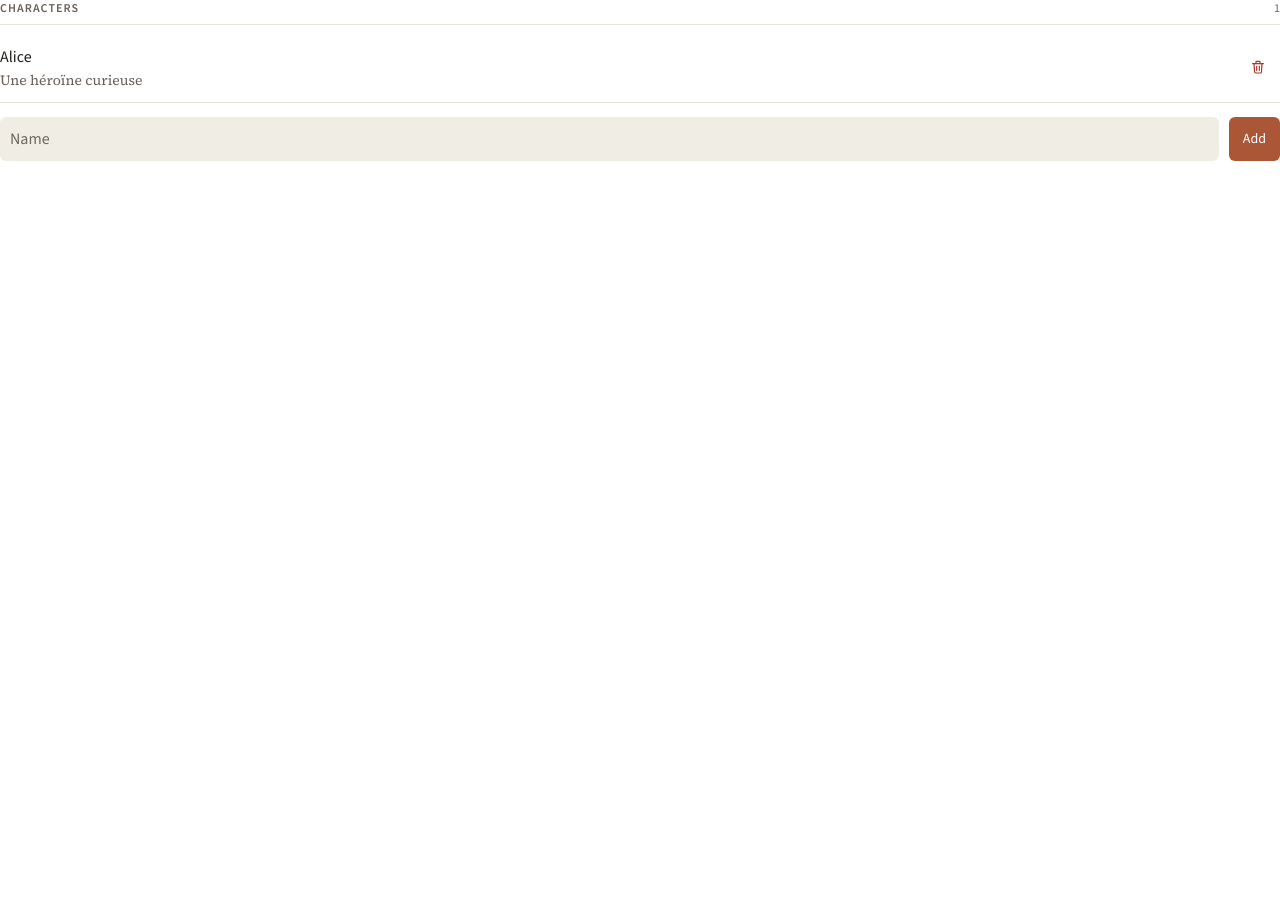
CharactersPanel › does not delete the character when the confirmation dialog is cancelled
Expected: the text "Alice" is shown, top-left (0, 46), bottom-right (32, 67)
Click the button with test id "character-delete-button" at (1258, 67), box top-left (1236, 45), bottom-right (1279, 89)
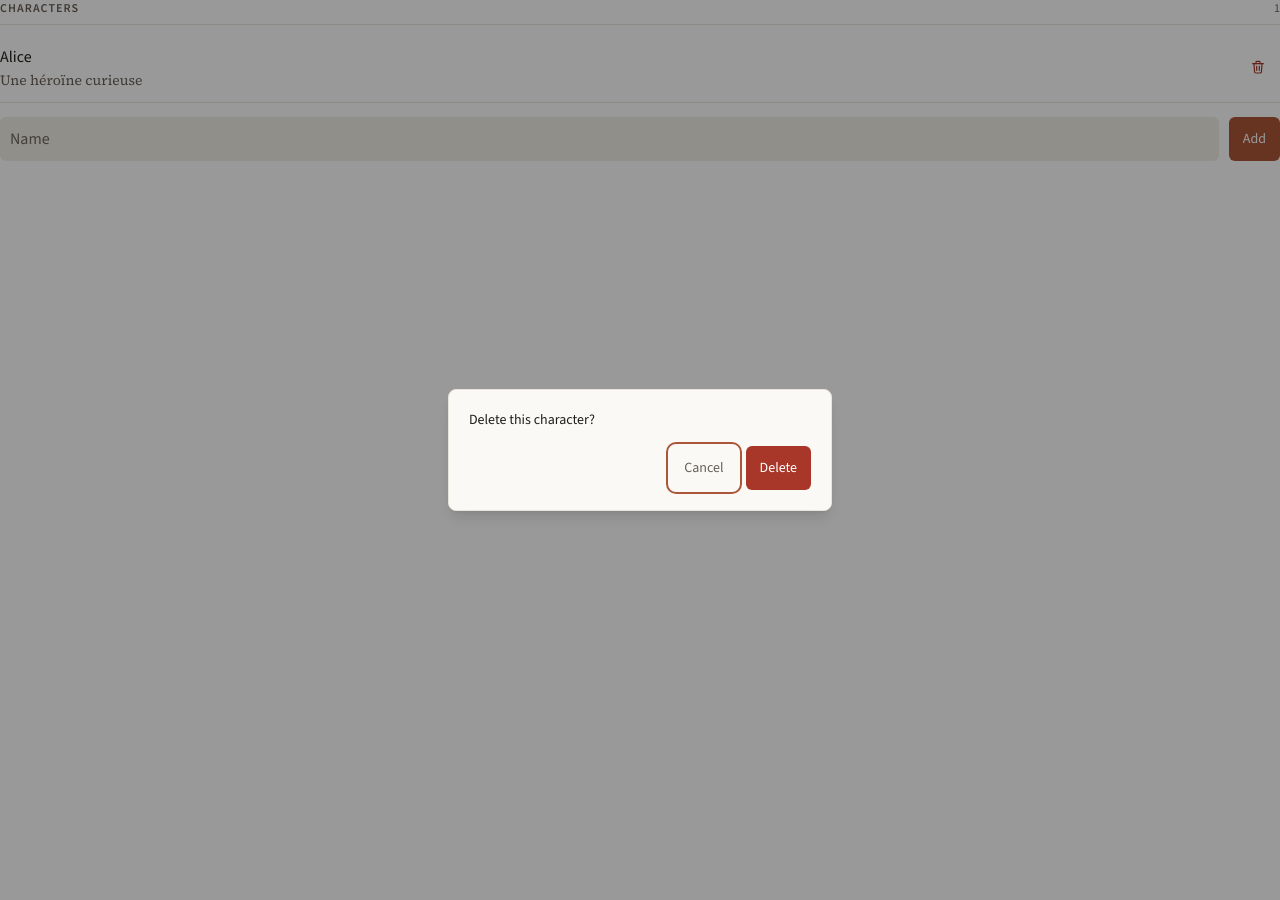
Click the button with test id "confirm-dialog-cancel" at (704, 468), box top-left (670, 446), bottom-right (738, 490)
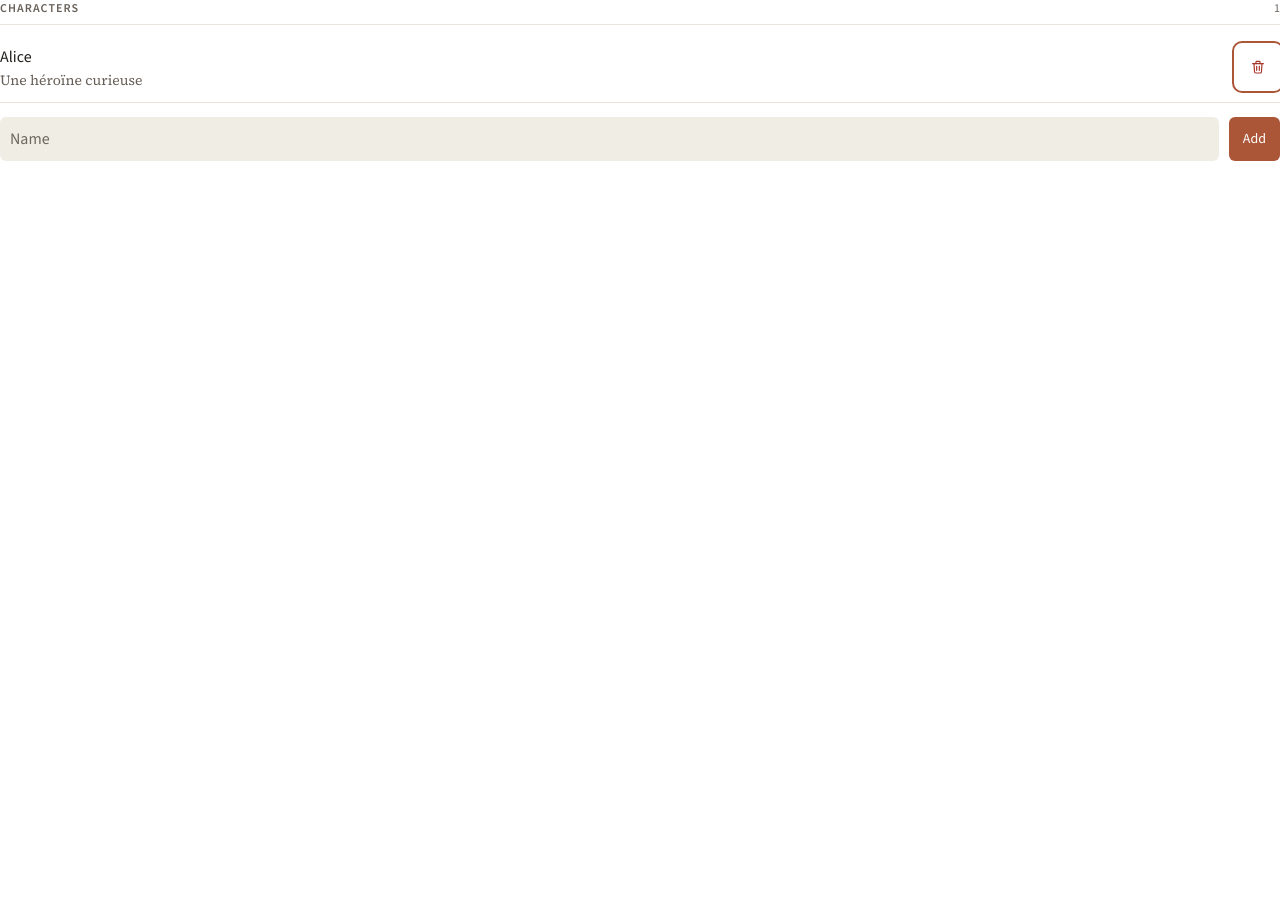
Expected: the link with test id "character-item" is shown, top-left (0, 46), bottom-right (142, 90)
Expected: the dialog with test id "confirm-dialog" is gone
